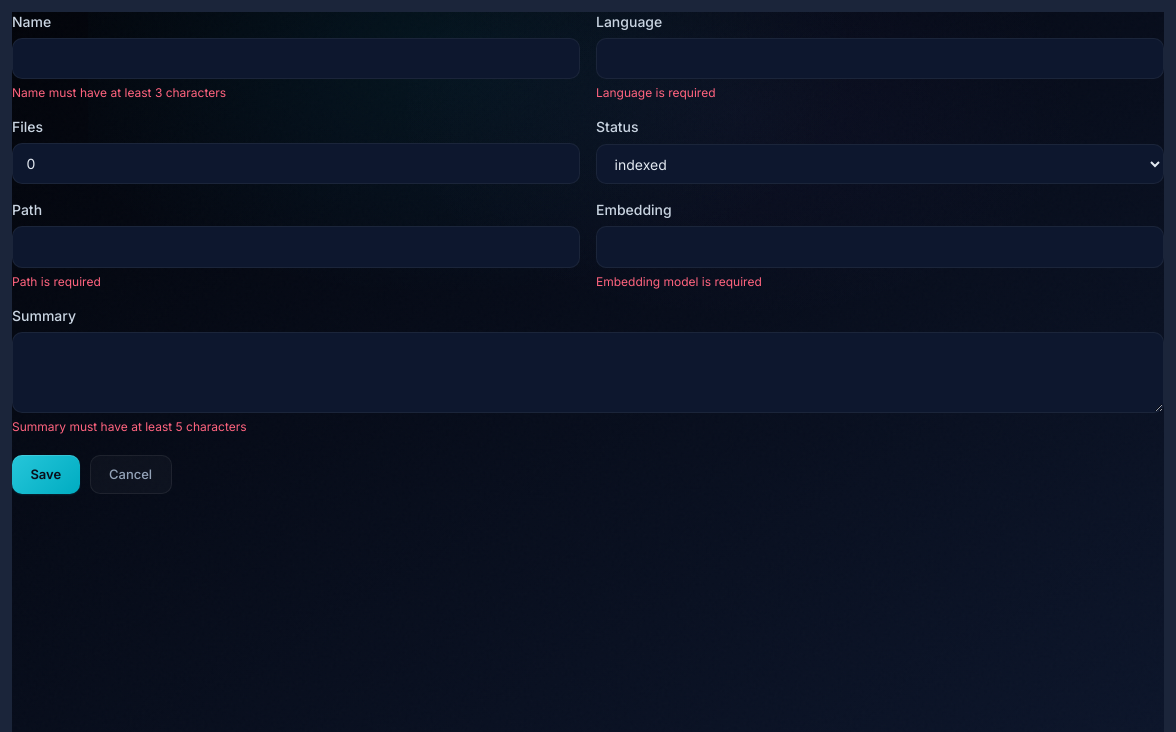
CodebaseForm › shows validation errors and prevents invalid submit
Type "ab" into the field labelled "Name Name must have at least 3 characters" at {"x": 296, "y": 59}, box [12,38,580,79]
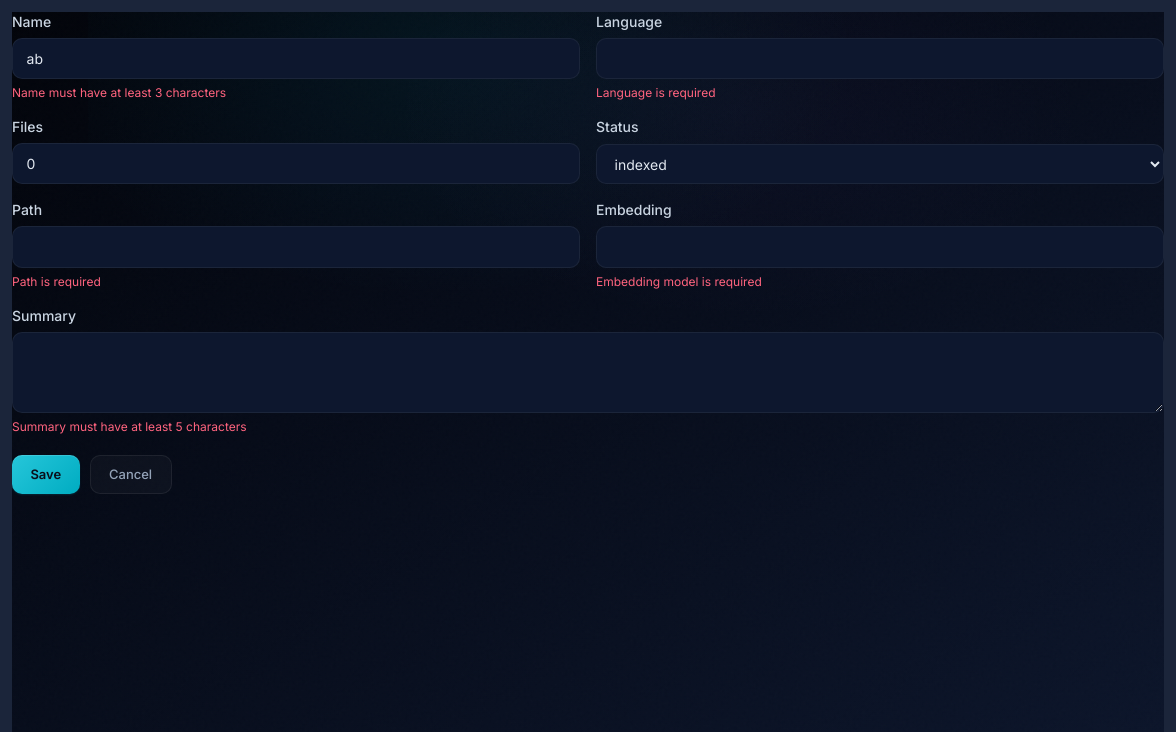
Replace the text in the number field with "-1" at {"x": 296, "y": 164}, box [12,143,580,184]
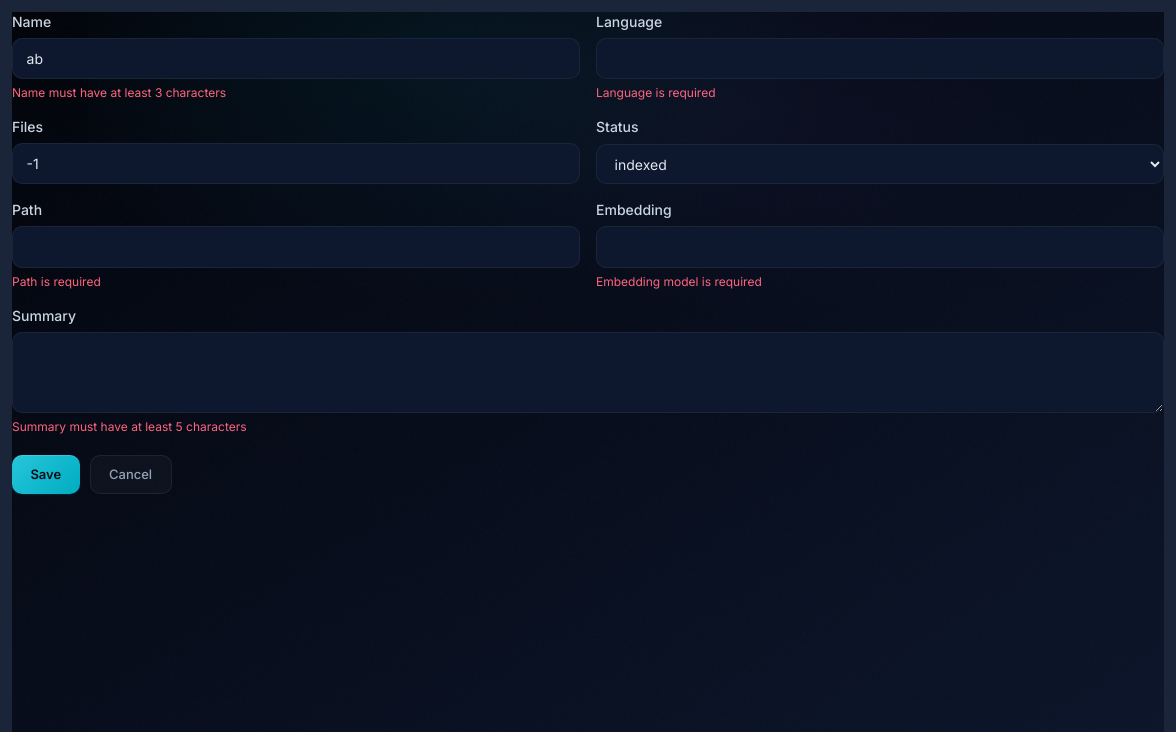
Type "bad" into the text box at {"x": 588, "y": 372}, box [12,332,1164,413]
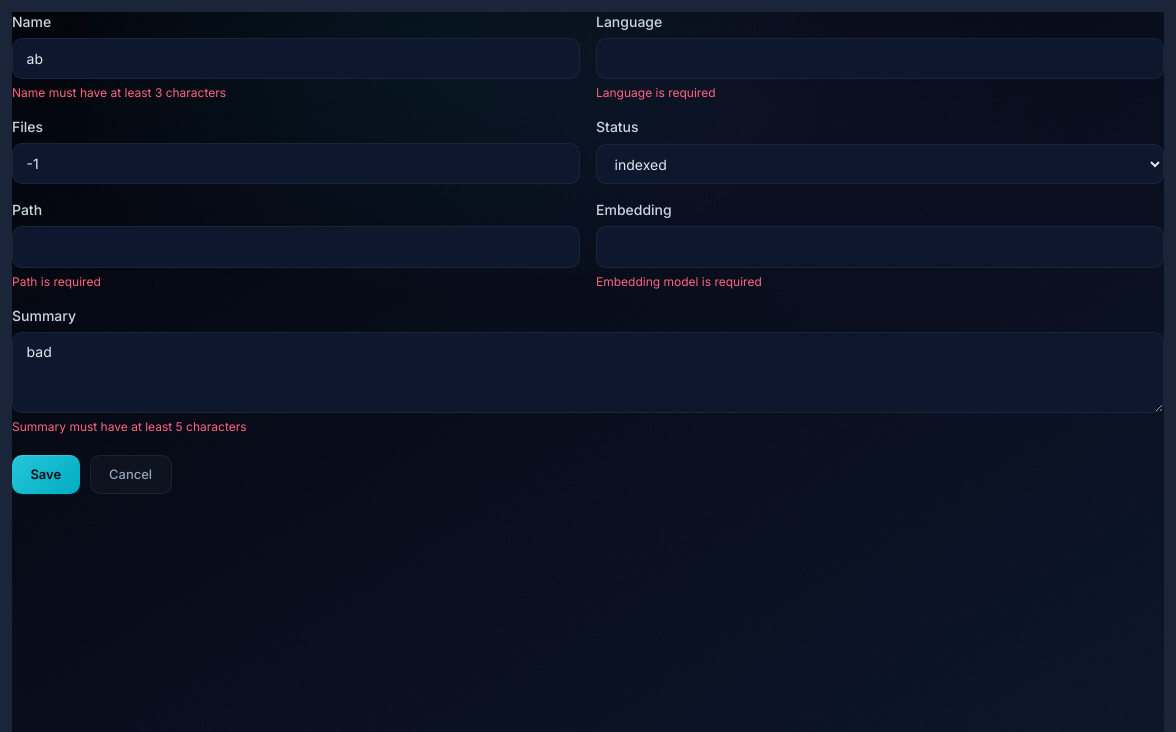
Click the button "Save" at {"x": 46, "y": 474}, box [12,455,80,494]
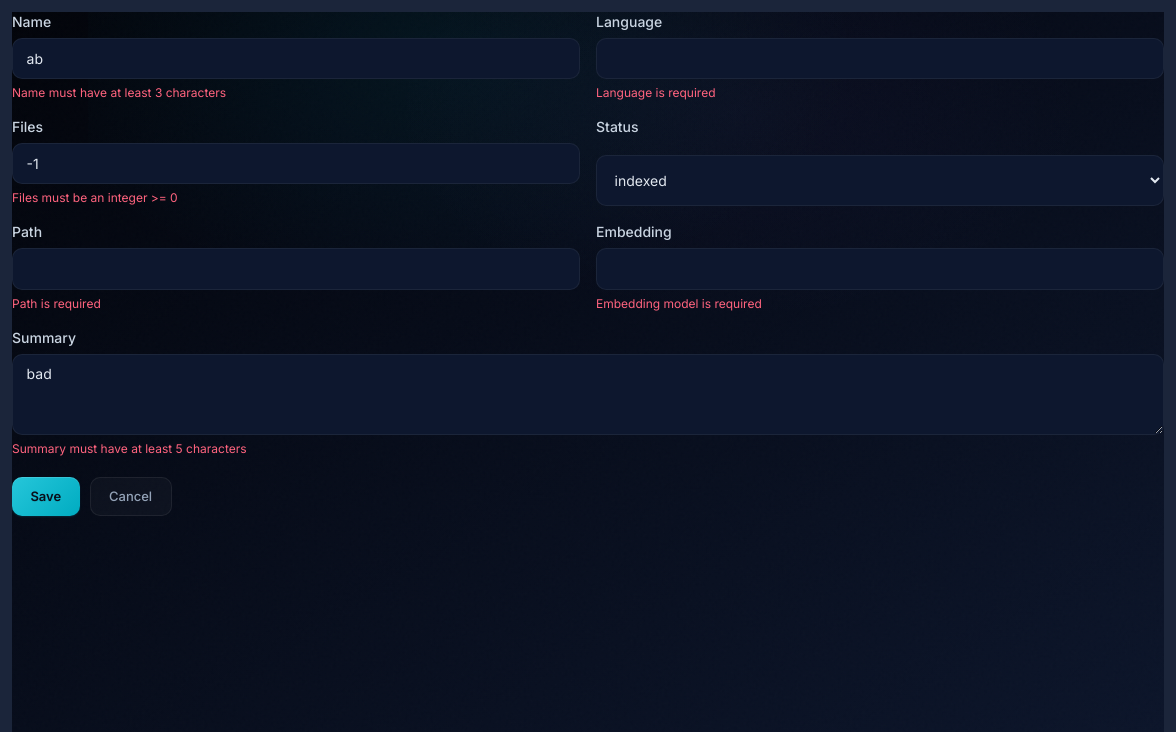
Expected: the text "Name must have at least 3 characters" is shown, [12,85,226,100]
Expected: the text "Files must be an integer >= 0" is shown, [12,190,178,205]
